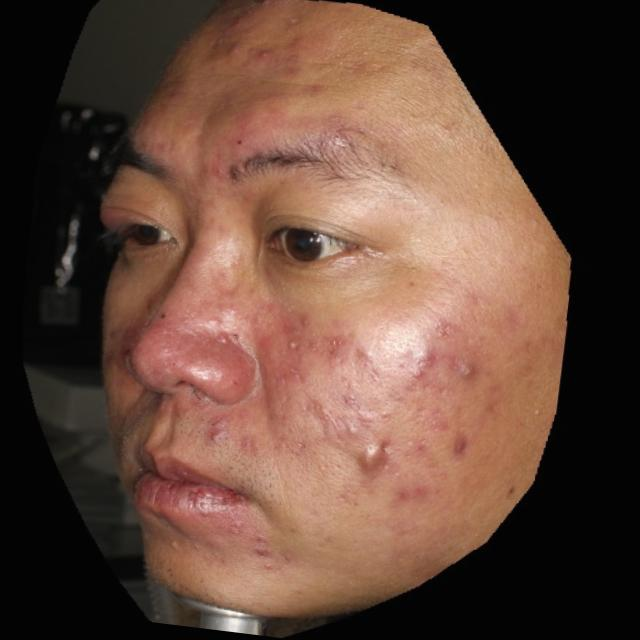blackhead: (158, 312, 166, 321), (236, 140, 243, 146)
nodule: (357, 444, 385, 473)
